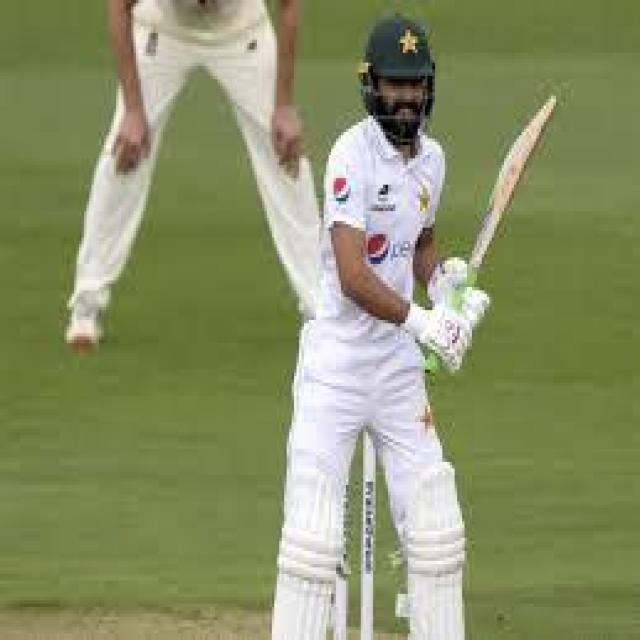bat: (469, 90, 558, 282)
toe: (533, 91, 559, 140)
